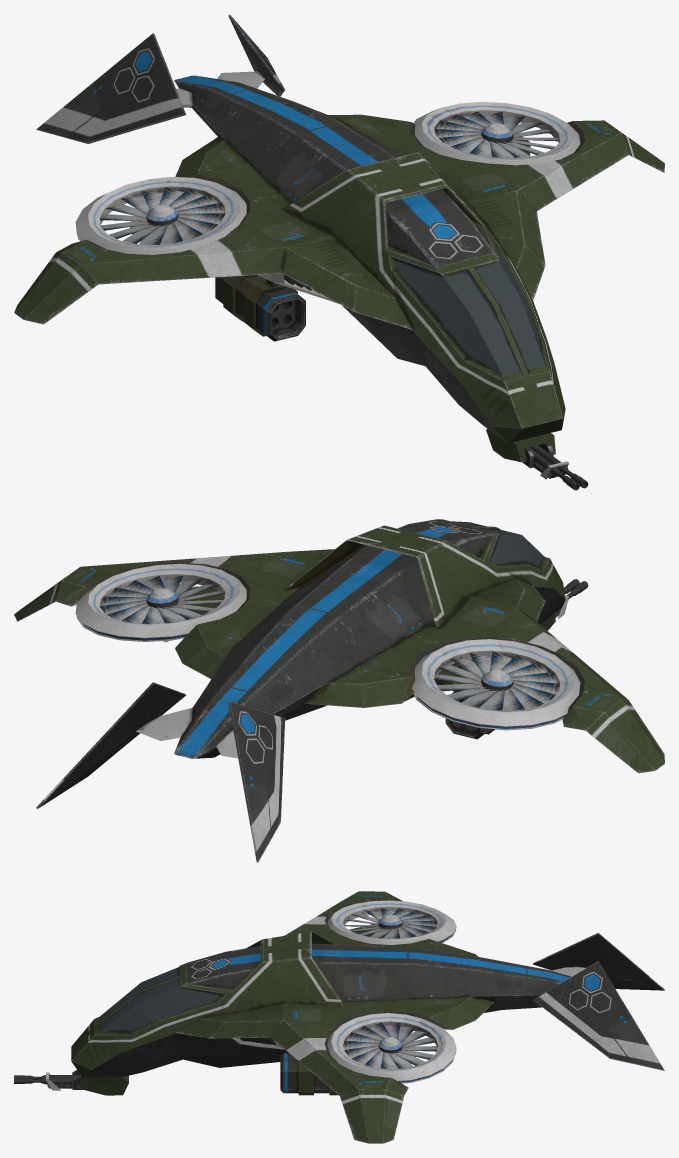
File: VEH_HELI_004.fbx
3 views of the same model, one above another, from view 1: azimuth 30°, elevation 25°; view 2: azimuth 150°, elevation 25°; view 3: azimuth 270°, elevation 25° (orthographic). The views are drawn at different scales.
Visible parts, largest first — view 1: polySurface237, polySurface194, polySurface155, polySurface169, polySurface189; view 2: polySurface237, polySurface194, polySurface155; view 3: polySurface237, polySurface155, polySurface194, polySurface189, polySurface169.
Boxes of the visible parts, x1=… form: polySurface237: x1=14, y1=14, x2=664, y2=442; polySurface194: x1=100, y1=187, x2=225, y2=244; polySurface155: x1=434, y1=111, x2=559, y2=158; polySurface169: x1=522, y1=443, x2=588, y2=490; polySurface189: x1=486, y1=428, x2=555, y2=462; polySurface237: x1=14, y1=519, x2=664, y2=862; polySurface194: x1=434, y1=651, x2=559, y2=710; polySurface155: x1=100, y1=575, x2=225, y2=642; polySurface237: x1=71, y1=891, x2=664, y2=1143; polySurface155: x1=343, y1=1022, x2=437, y2=1069; polySurface194: x1=344, y1=908, x2=437, y2=938; polySurface189: x1=77, y1=1075, x2=128, y2=1095; polySurface169: x1=14, y1=1070, x2=82, y2=1090.
Size of the model in its own units: 5.7 by 1.65 by 6.68.
Materials: 1 (1 with a texture image).
